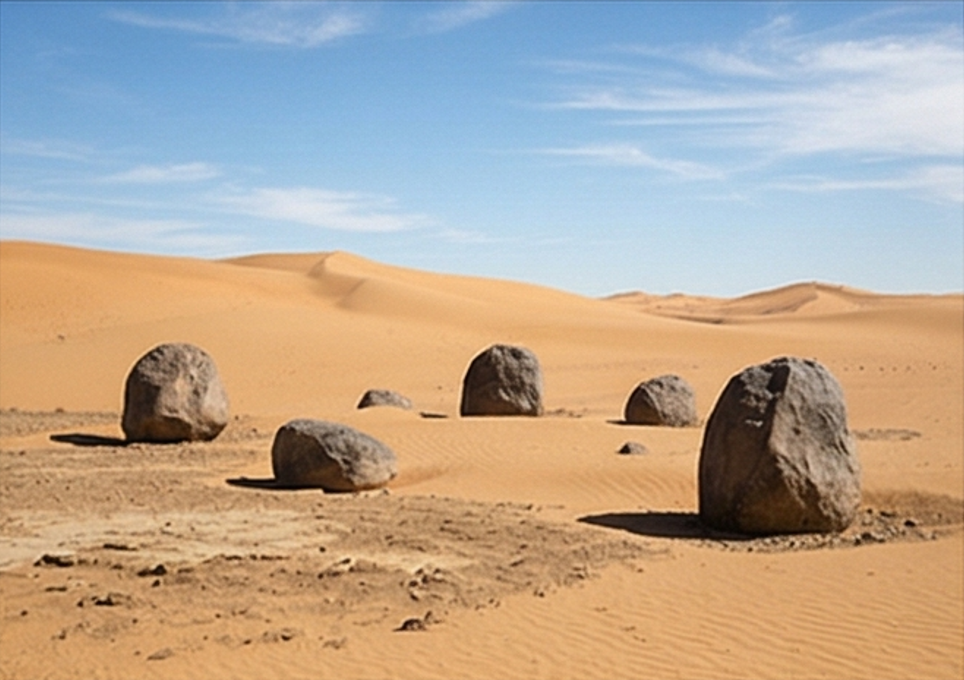rocks: (699, 358, 860, 534), (122, 343, 226, 441), (272, 418, 396, 491), (461, 344, 542, 416), (624, 375, 698, 426), (359, 390, 410, 408)
